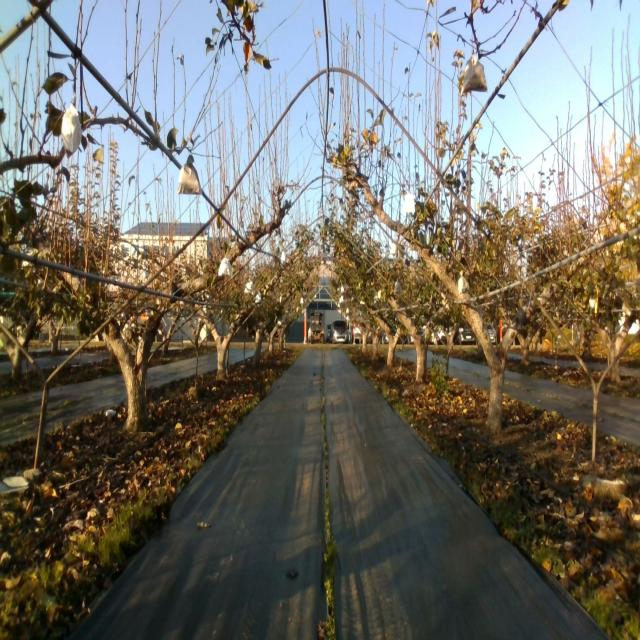pearbags: (461, 51, 488, 95), (177, 154, 202, 198), (62, 104, 82, 154), (218, 254, 232, 280), (402, 188, 416, 214)
